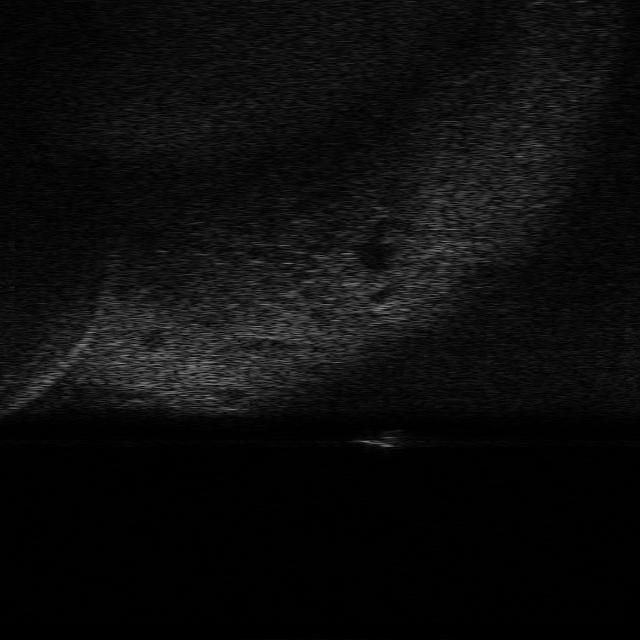cube: (351, 425, 410, 450)
